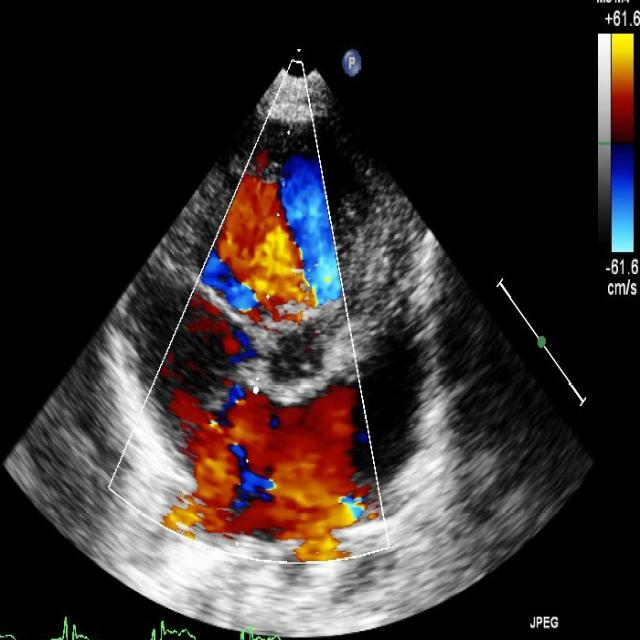VSDType2: (237, 224, 343, 386)
